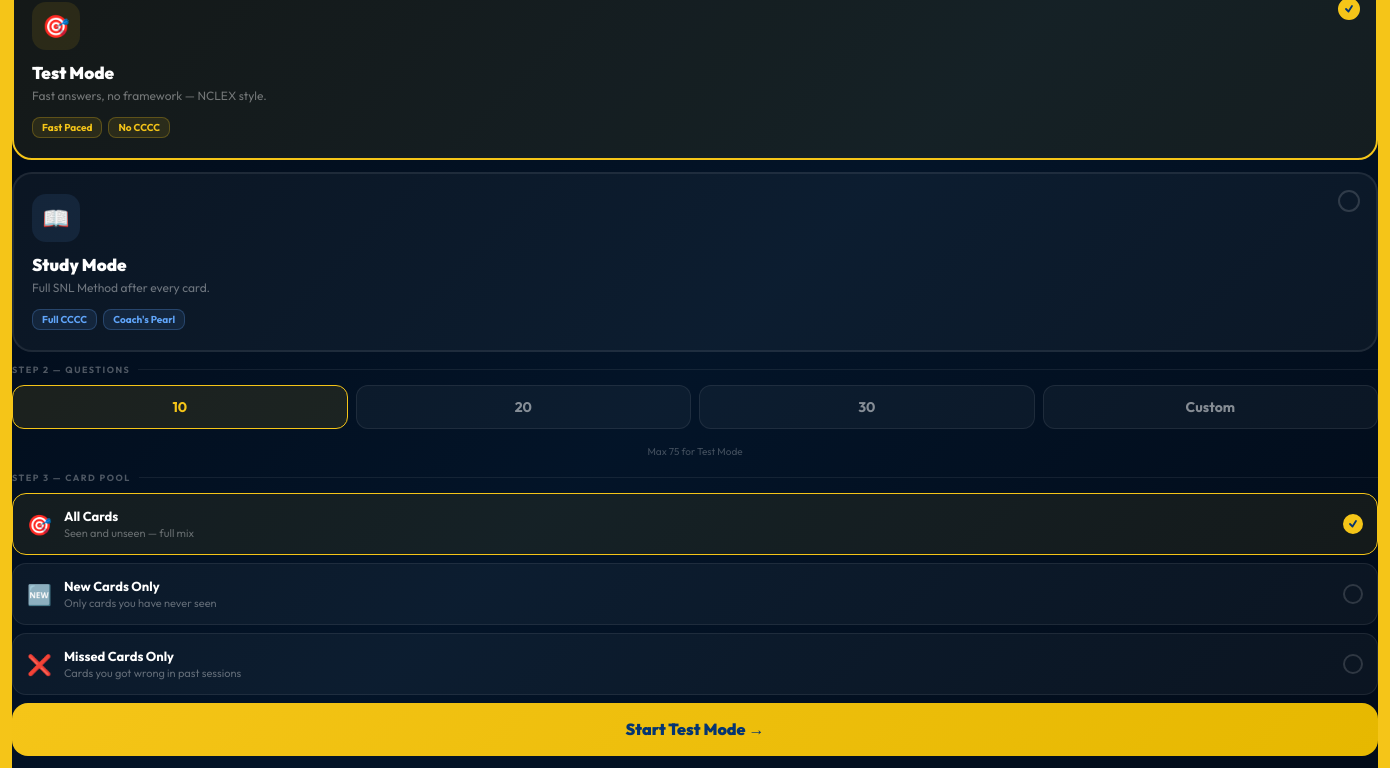
Test case: SessionSetup › clicking start opens session name modal (does not navigate immediately)
(page scrolled)
Click the button "Start Test Mode →": click(695, 730) x1=12 y1=703 x2=1378 y2=756
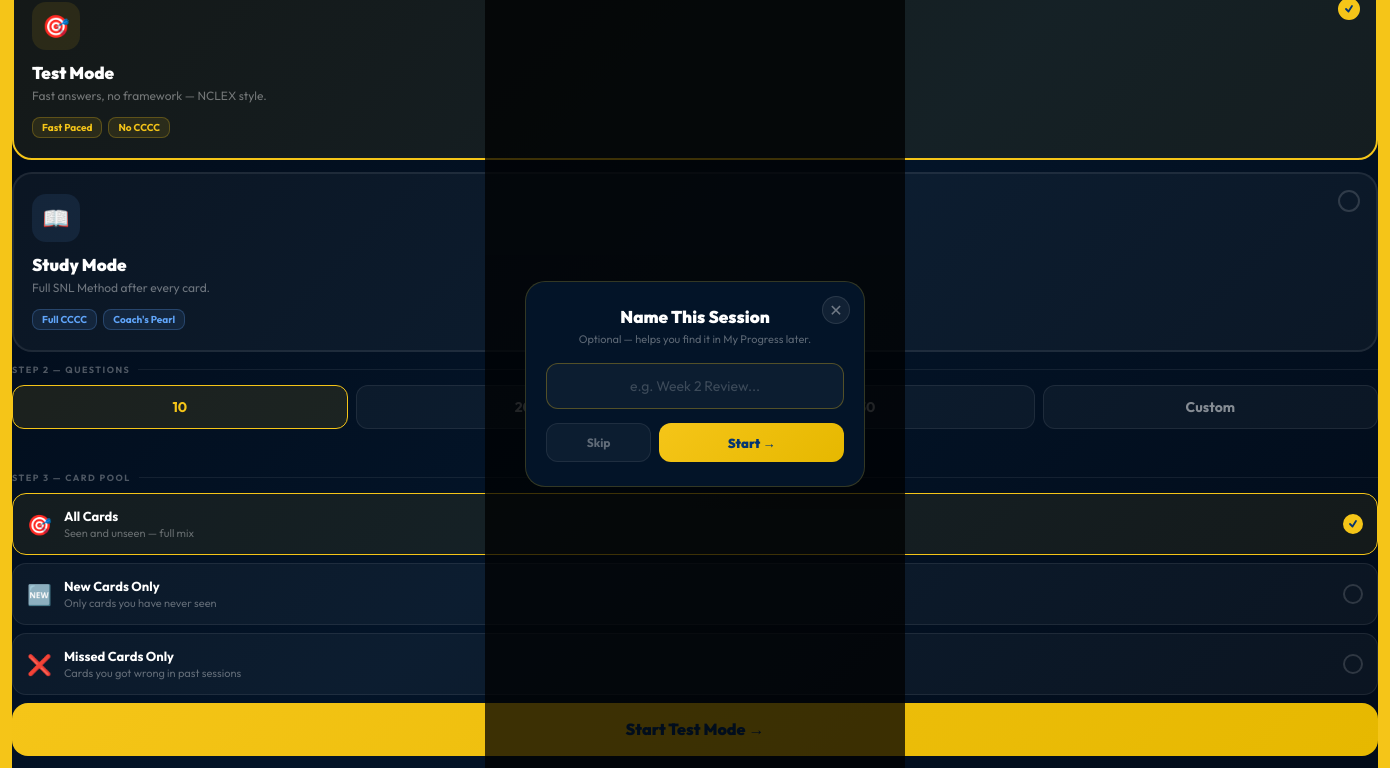
Now the text "Name This Session" is shown, box x1=620 y1=306 x2=770 y2=327
